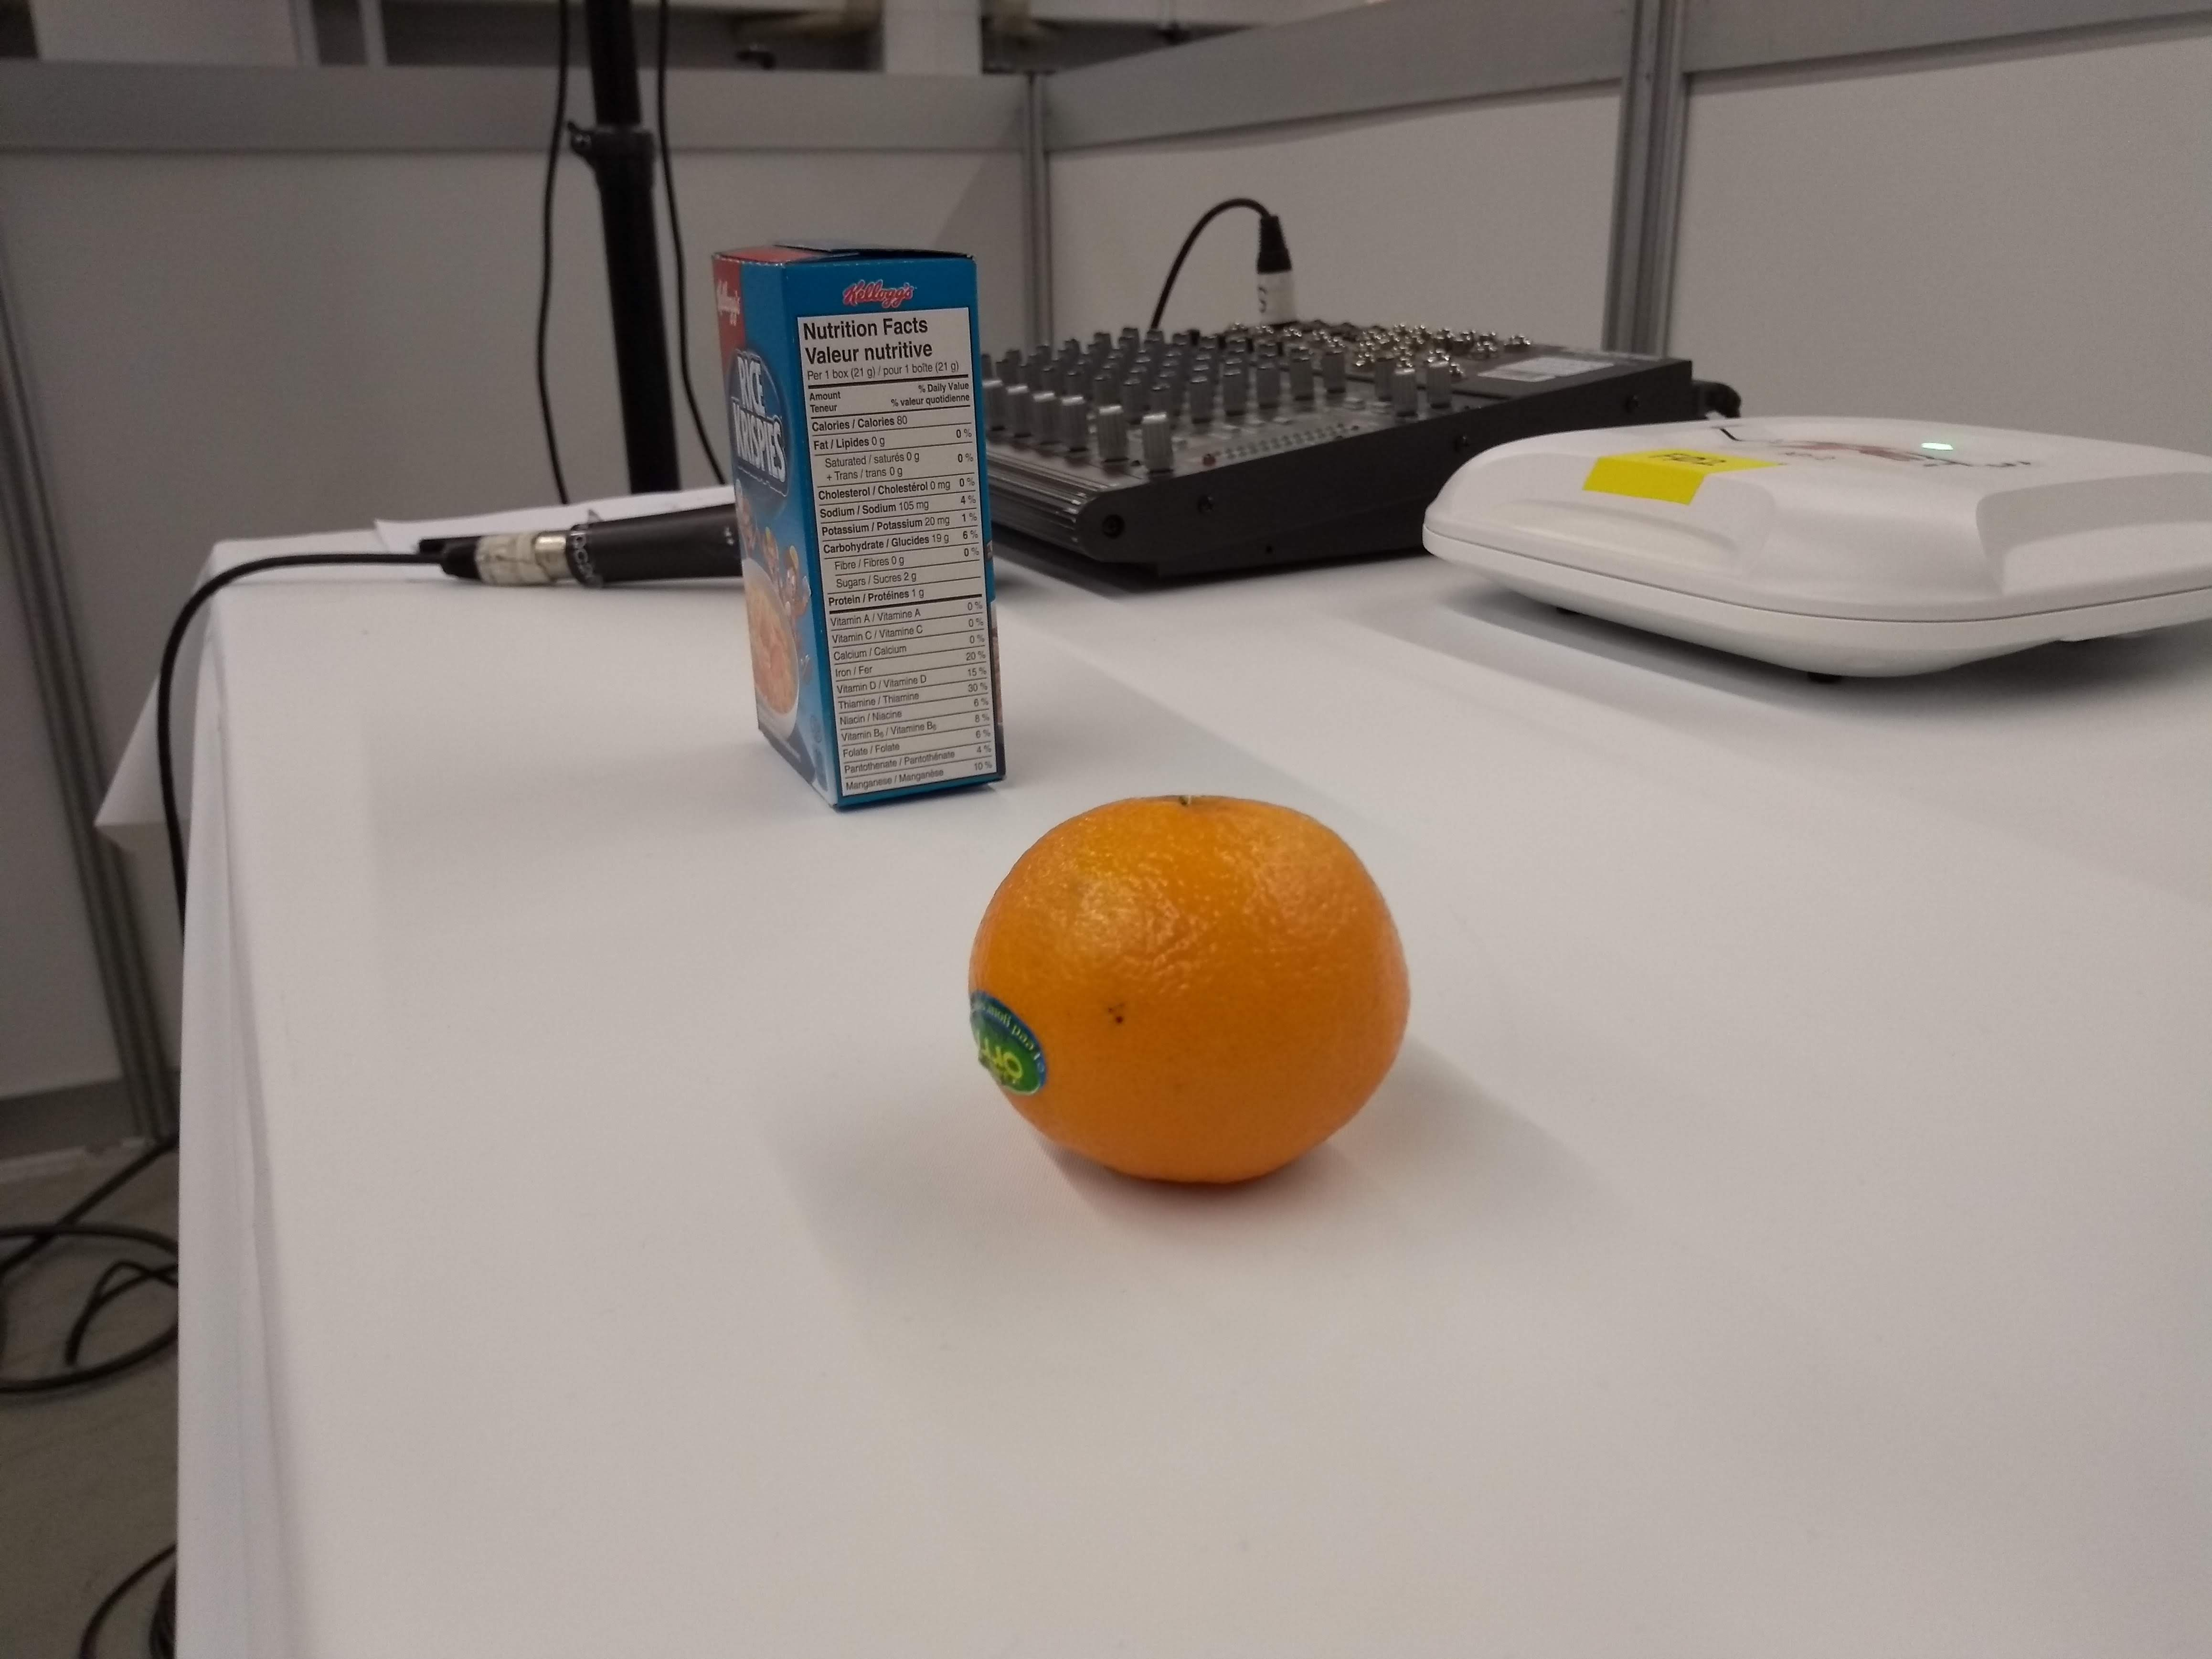cereal: (702, 232, 1019, 823)
orange: (960, 782, 1425, 1199)
